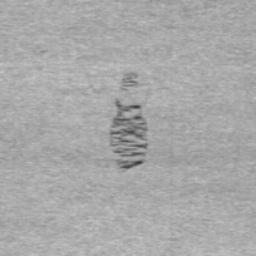Secondary rust skin: (110, 72, 148, 172)
